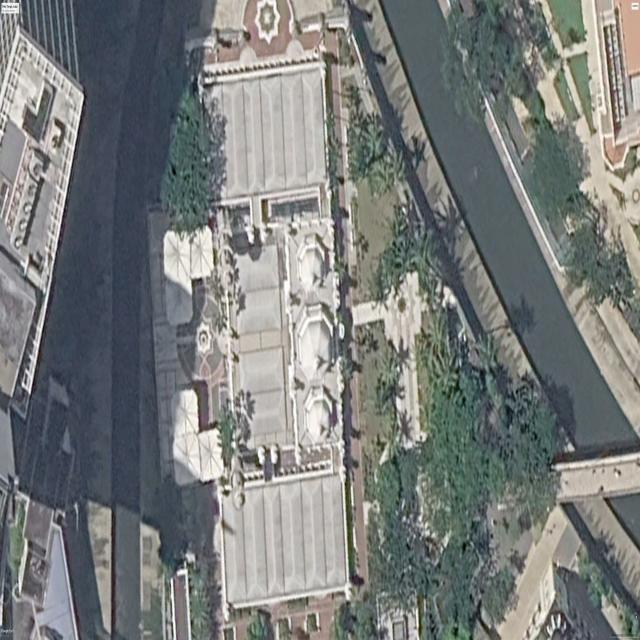mosque: (198, 51, 350, 610)
